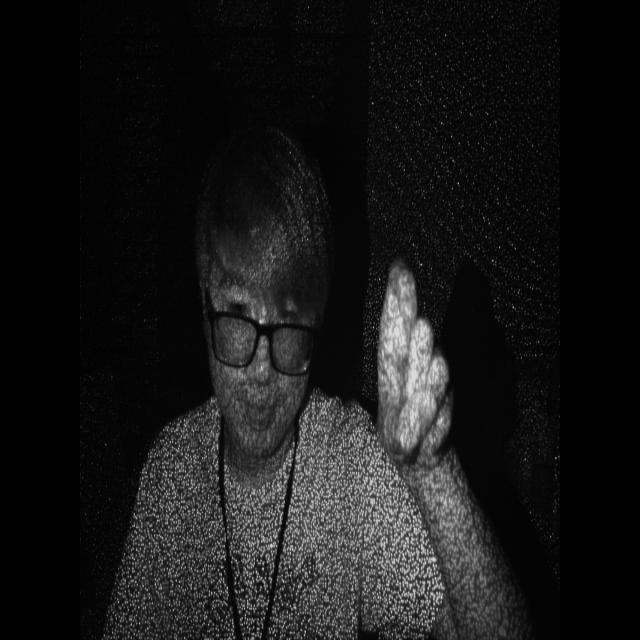X: (368, 246, 465, 493)
